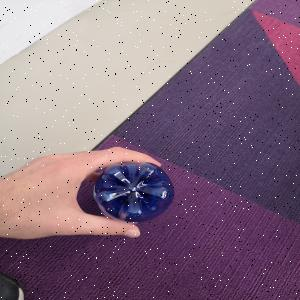Plastic-bottle: (95, 163, 177, 225)
